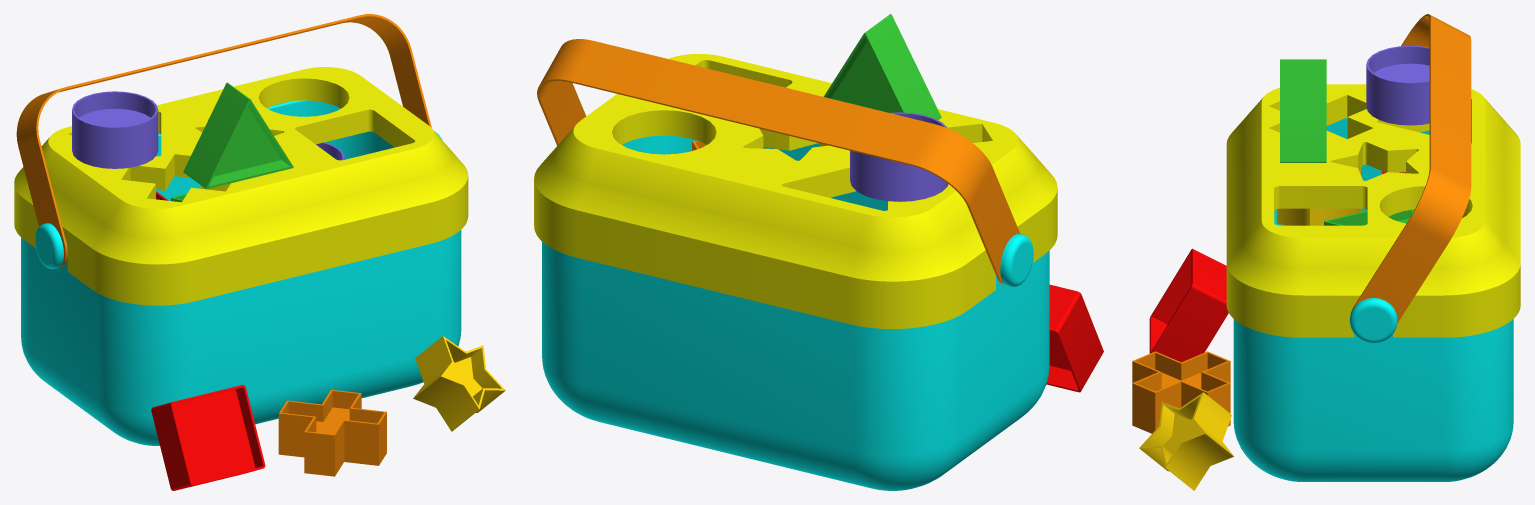
The model's file is shapeSorter.fbx.
3 views of the same model, side by side, from view 1: azimuth 30°, elevation 25°; view 2: azimuth 150°, elevation 25°; view 3: azimuth 270°, elevation 25° (orthographic). The views are drawn at different scales.
Visible parts, largest first — view 1: Group3, Group1, Component_4_1, Group4, Component_2_3, Component_1_3, Component_5_3, Component_3_3, Component_6_2; view 2: Group1, Group3, Group4, Component_1_3, Component_4_1, Component_5_3, Component_6_2; view 3: Group3, Group1, Group4, Component_4_1, Component_2_3, Component_3_3, Component_1_3, Component_5_3, Component_6_1, Component_3_2, Component_1_2.
Part boxes in pixels (bbox=[...]): Group3: bbox=[14, 67, 468, 305]; Group1: bbox=[21, 100, 461, 445]; Component_4_1: bbox=[151, 385, 265, 490]; Group4: bbox=[16, 14, 431, 266]; Component_2_3: bbox=[278, 389, 386, 476]; Component_1_3: bbox=[183, 82, 293, 189]; Component_5_3: bbox=[72, 91, 158, 168]; Component_3_3: bbox=[413, 336, 505, 431]; Component_6_2: bbox=[35, 223, 67, 269]; Group1: bbox=[542, 135, 1049, 490]; Group3: bbox=[534, 54, 1057, 328]; Group4: bbox=[537, 39, 1020, 284]; Component_1_3: bbox=[823, 14, 941, 119]; Component_4_1: bbox=[1046, 284, 1103, 392]; Component_5_3: bbox=[850, 112, 948, 201]; Component_6_2: bbox=[1000, 234, 1033, 286]; Group3: bbox=[1226, 84, 1520, 337]; Group1: bbox=[1233, 117, 1513, 481]; Group4: bbox=[1351, 14, 1471, 323]; Component_4_1: bbox=[1149, 248, 1228, 362]; Component_2_3: bbox=[1132, 351, 1230, 433]; Component_3_3: bbox=[1139, 392, 1233, 490]; Component_1_3: bbox=[1280, 59, 1326, 162]; Component_5_3: bbox=[1366, 45, 1429, 125]; Component_6_1: bbox=[1349, 298, 1397, 343]; Component_3_2: bbox=[1277, 170, 1361, 225]; Component_1_2: bbox=[1324, 209, 1414, 225].
Size of the model in its own units: 10 by 8.04 by 8.32.
